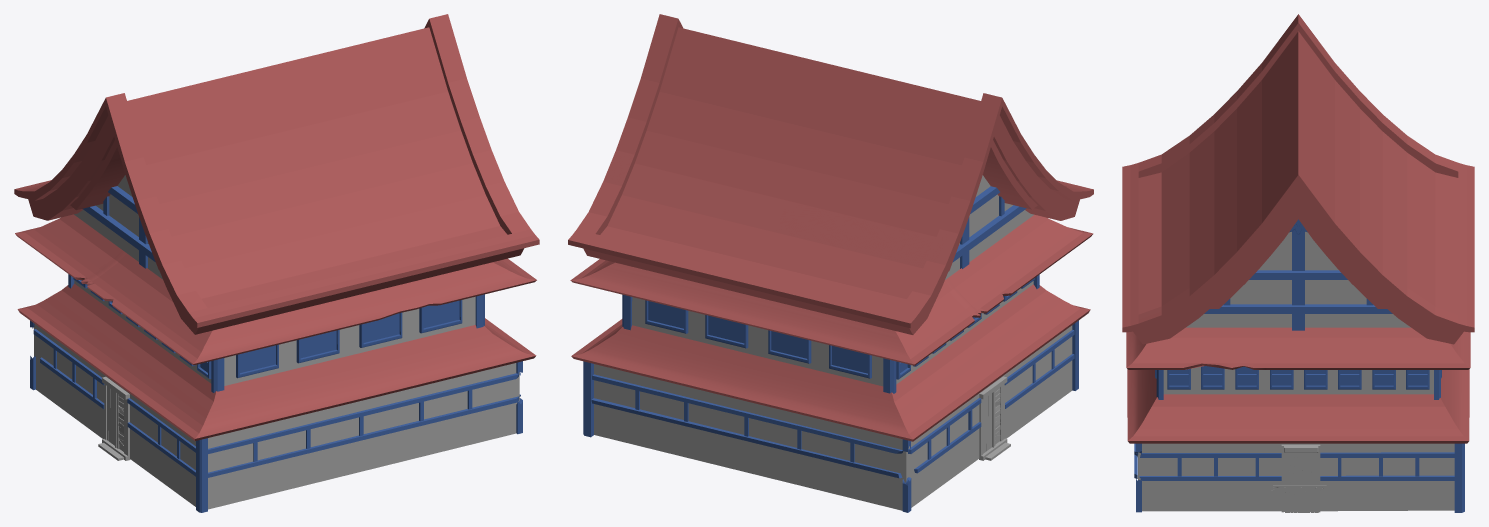
The model's file is 3dm_House2_02a.fbx.
The picture shows the model from 3 angles, left to right: view 1: azimuth 30°, elevation 25°; view 2: azimuth 150°, elevation 25°; view 3: azimuth 270°, elevation 25°; orthographic projection. The views are drawn at different scales.
Parts seen in each view (by area): view 1: polySurface9, house2_porte1_pCube103, polySurface120_f_0_1; view 2: polySurface9, house2_porte1_pCube103, polySurface120_f_0_1; view 3: polySurface9, house2_porte1_pCube103, polySurface120_f_0_1.
Part boxes in pixels (x1,y1,x2,y2): polySurface9: (14, 14, 539, 440); house2_porte1_pCube103: (34, 175, 519, 509); polySurface120_f_0_1: (30, 186, 522, 512); polySurface9: (568, 14, 1093, 441); house2_porte1_pCube103: (594, 175, 1072, 510); polySurface120_f_0_1: (583, 186, 1078, 512); polySurface9: (1122, 14, 1474, 443); house2_porte1_pCube103: (1137, 231, 1454, 512); polySurface120_f_0_1: (1134, 219, 1464, 512).
Bounding box in the file's own units: 1613 × 1596 × 1486.
